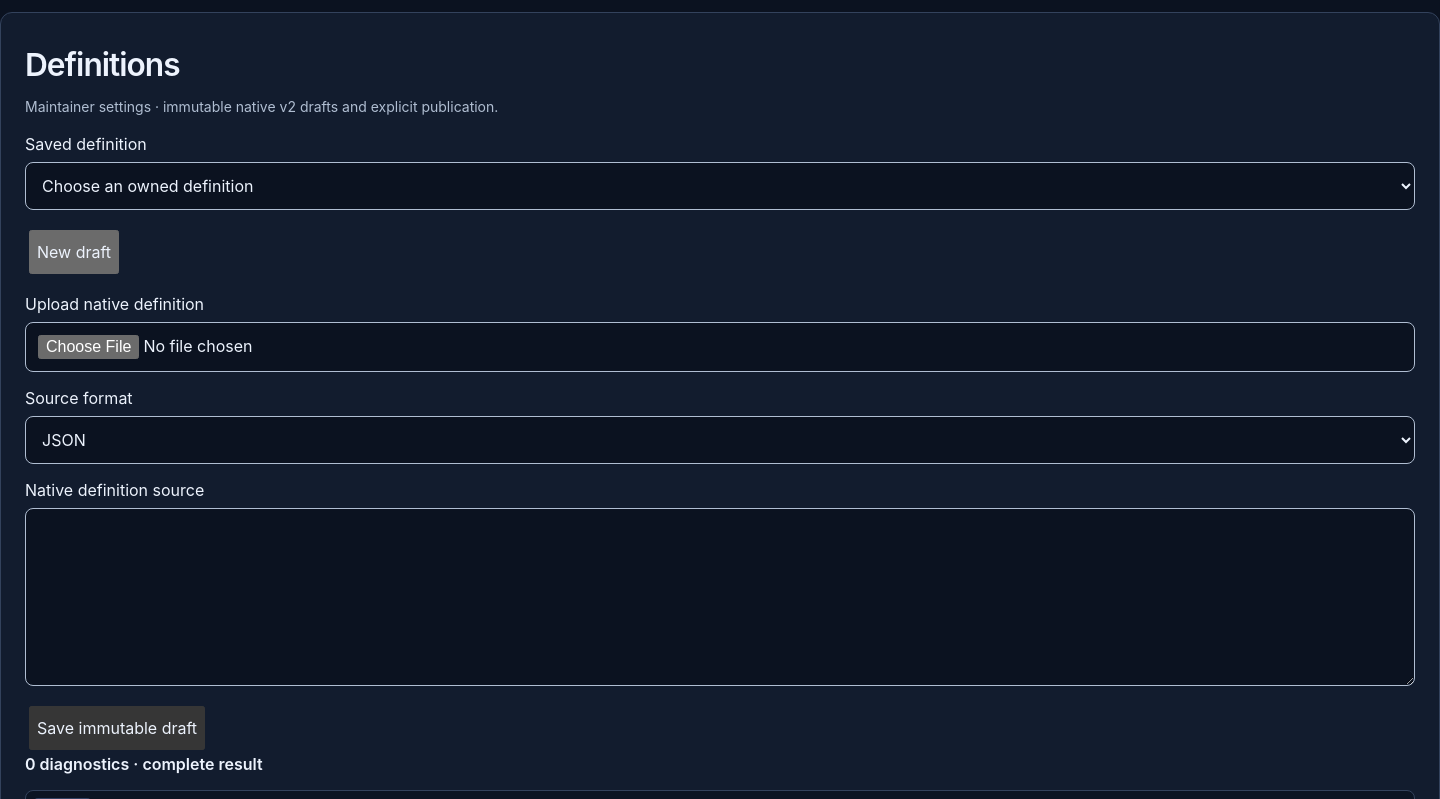
Test: keeps conflict refusal explicit and never claims a failed save succeeded
Click the text box labelled "Native definition source": (720, 597) [25,508,1415,686]
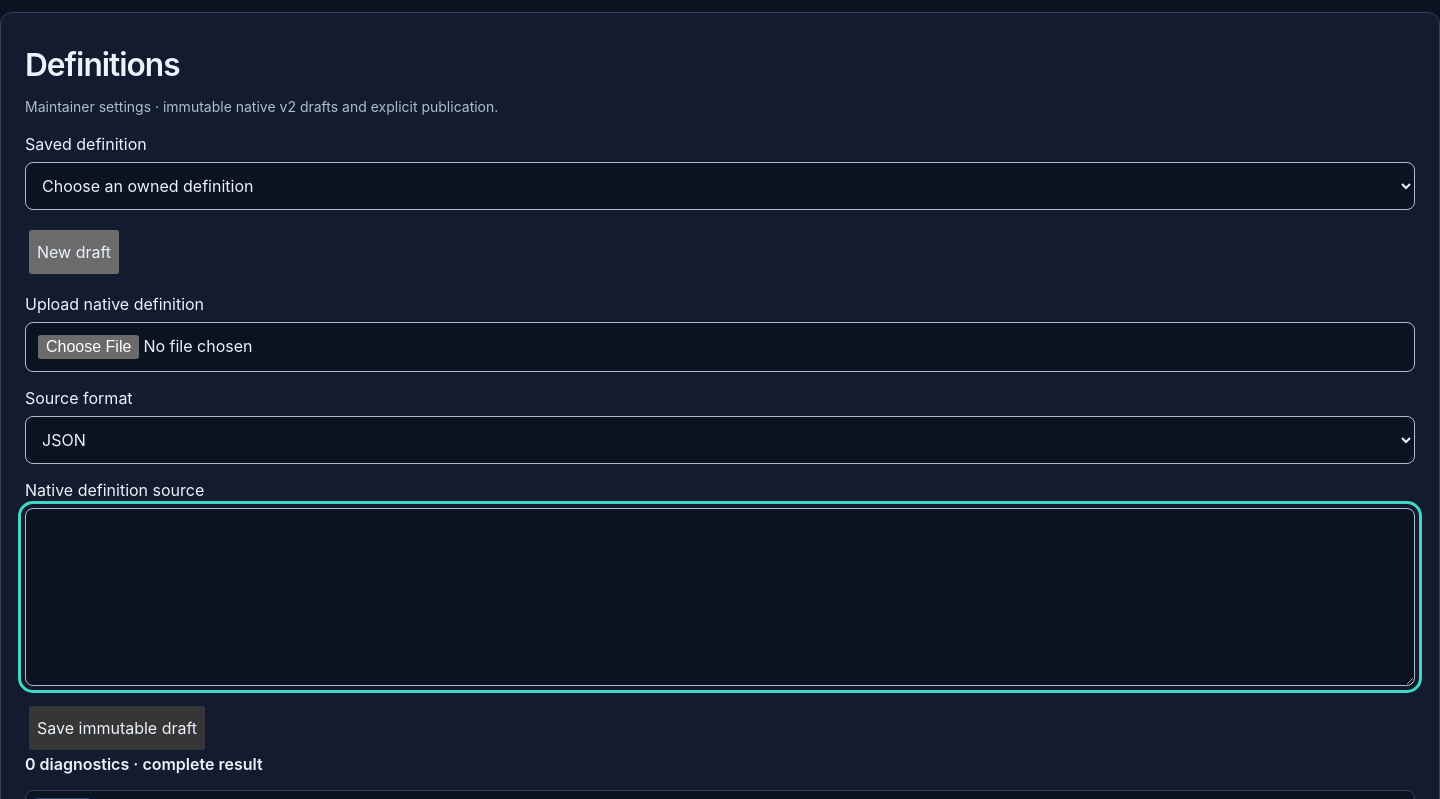
Type keys "{}"
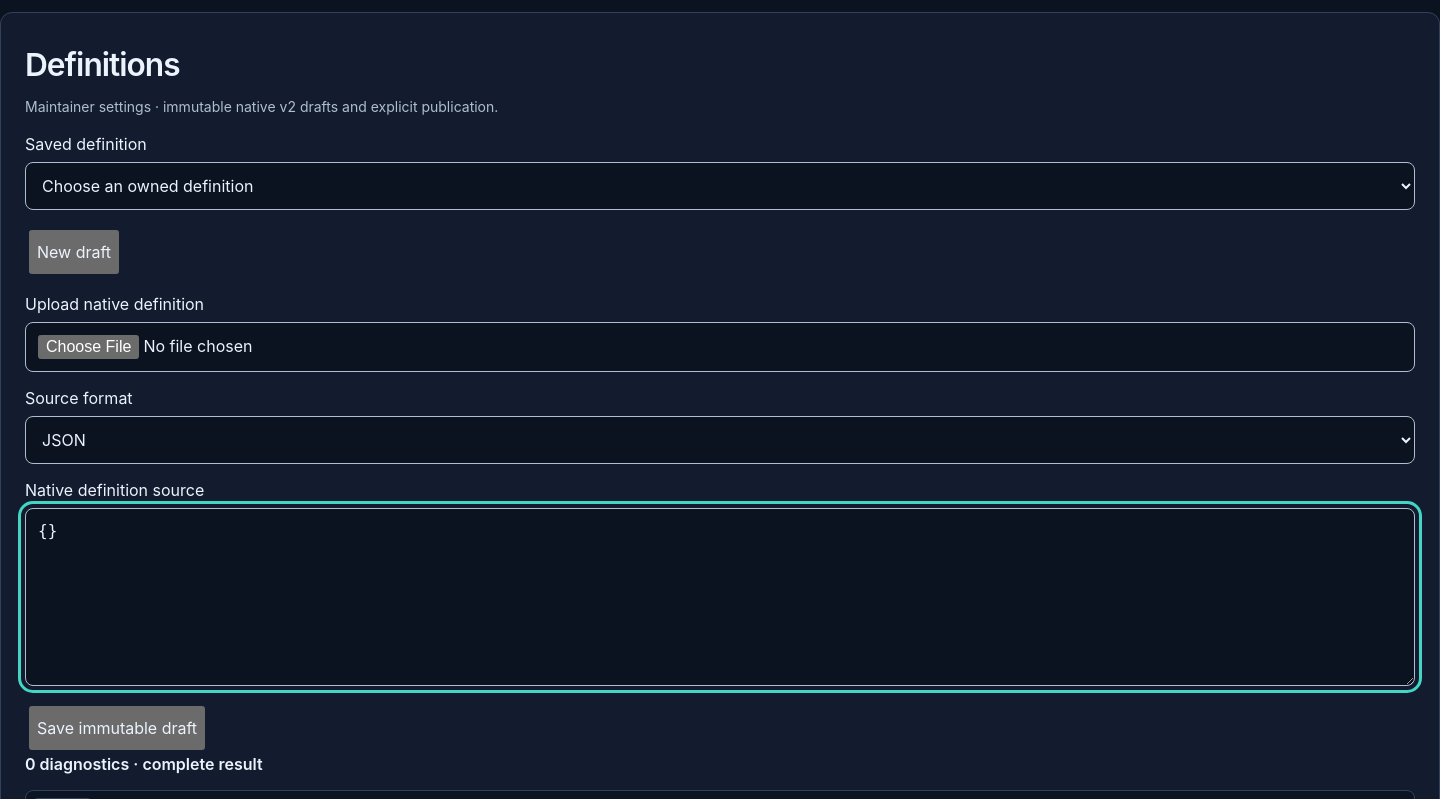
Click the button "Save immutable draft": (117, 728) [29,706,205,750]
(page scrolled)
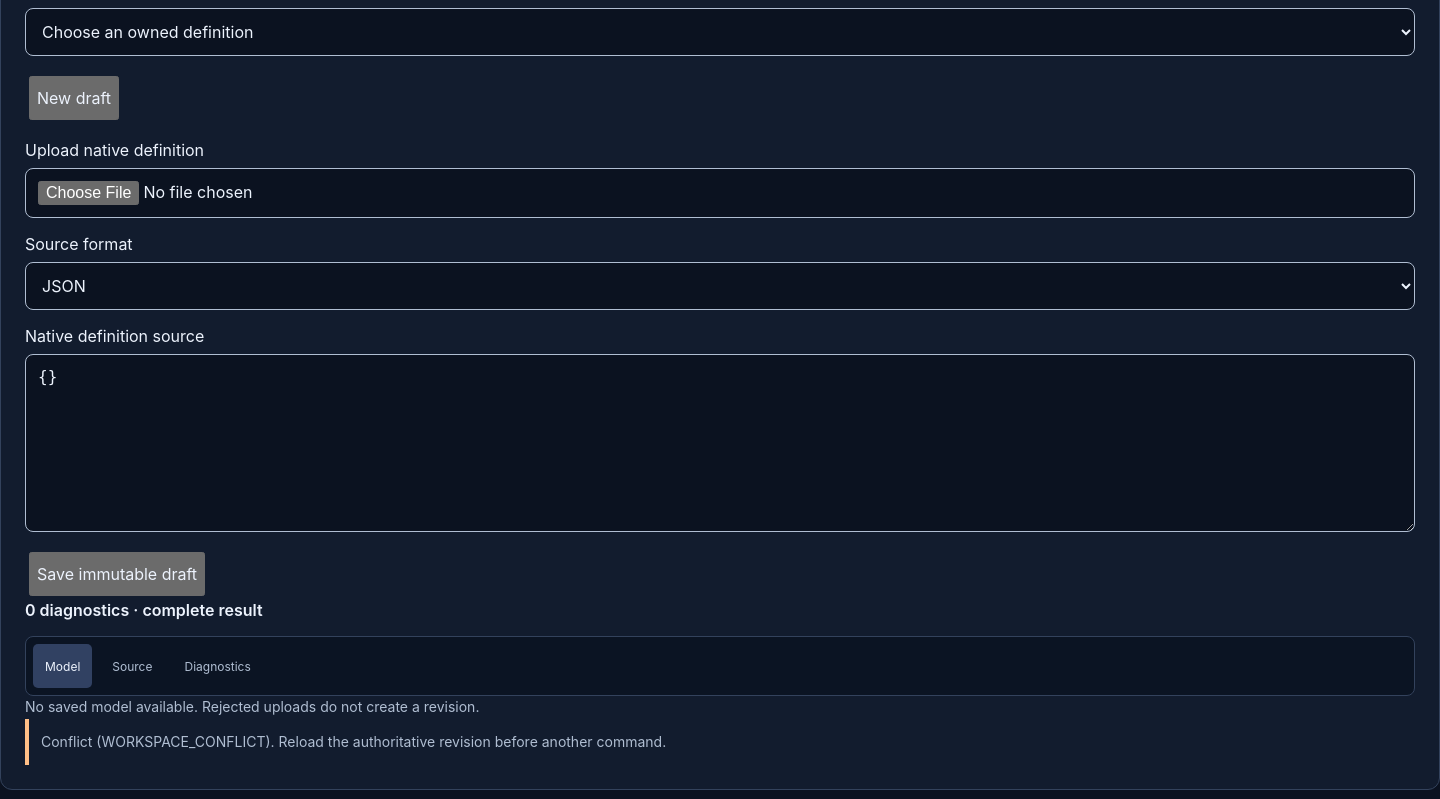
Result: the message shows "Reload the authoritative revision" at [41,733,666,750]
